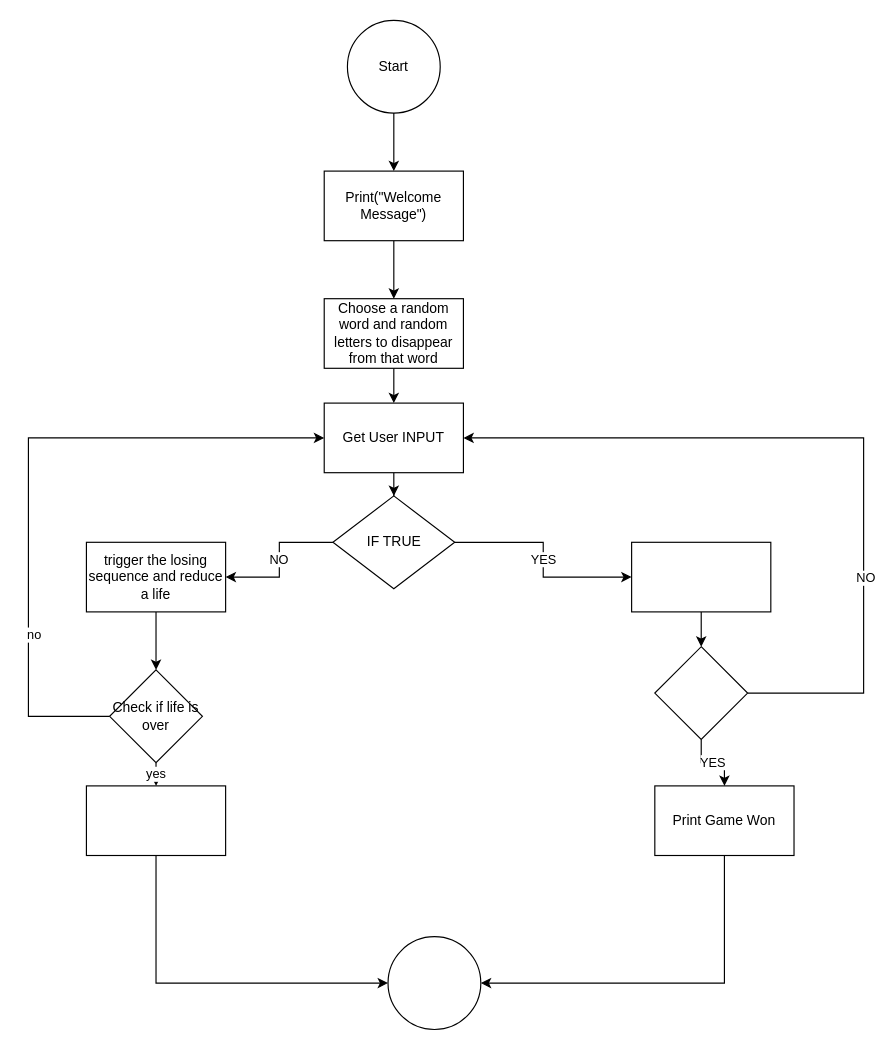
Some shapes in this 896 by 1050 pixel diagram are drawn without their labels. The box of each missing label's shape, as (x1, y1, x2, y2) in pixels:
Check if word is filled: (654, 646, 748, 740)
END: (387, 936, 481, 1030)
Fill the letter in the word: (630, 541, 771, 612)
Print Game Over: (85, 785, 226, 855)
